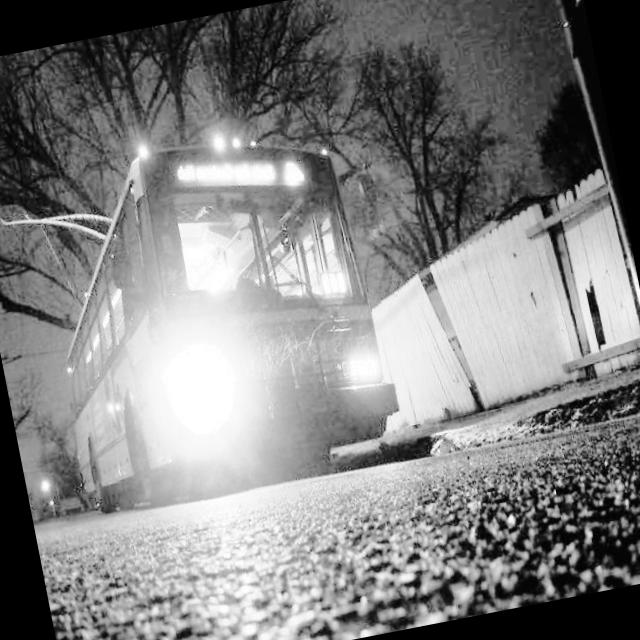Bus: (0, 76, 437, 541)
